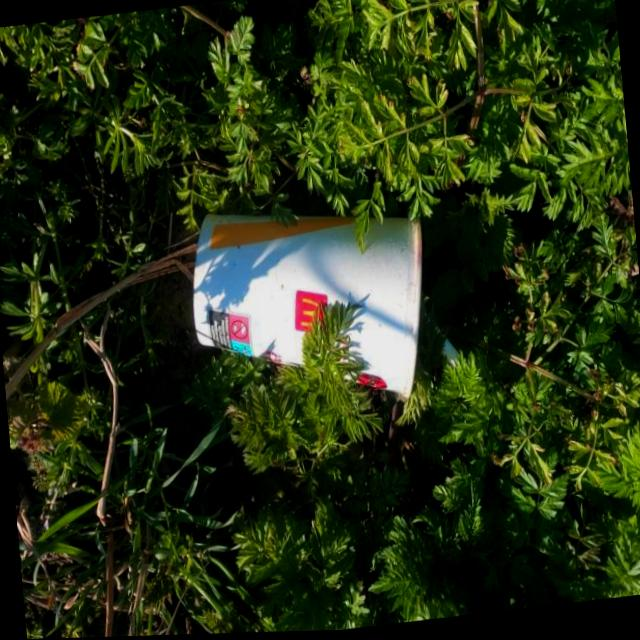Cup: (183, 185, 440, 427)
